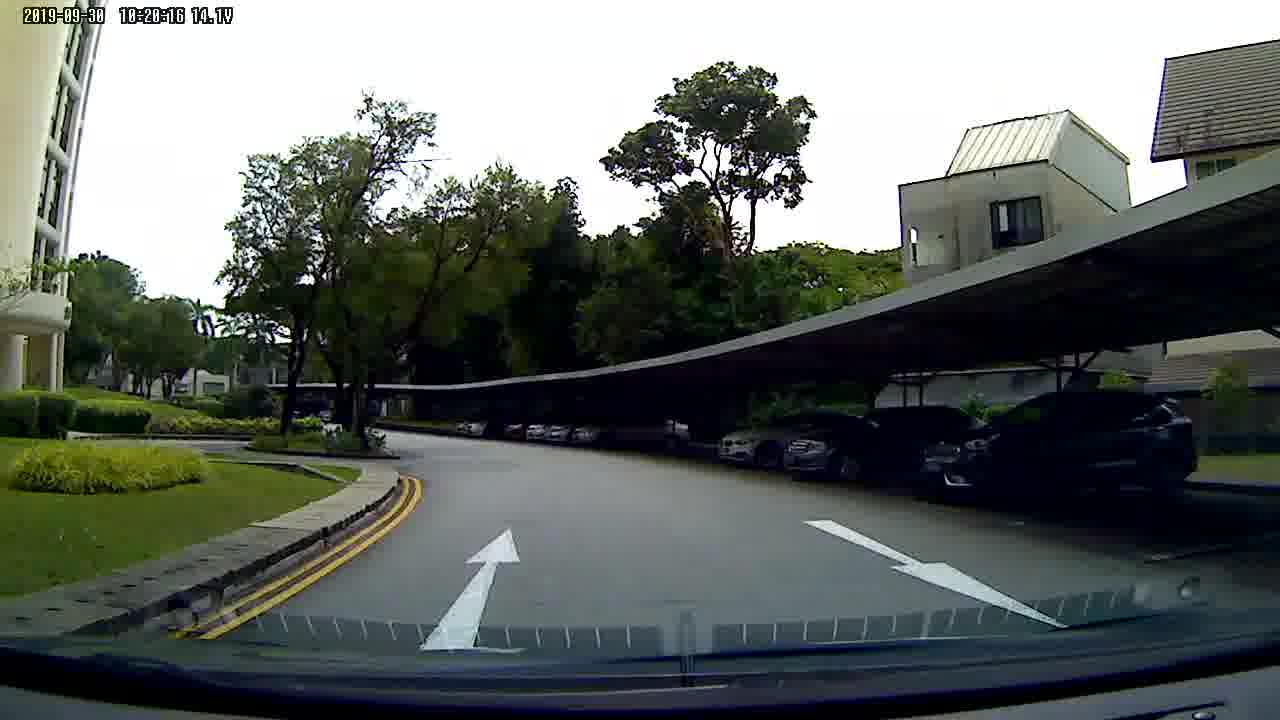car: (918, 383, 1207, 520), (790, 401, 917, 499)
